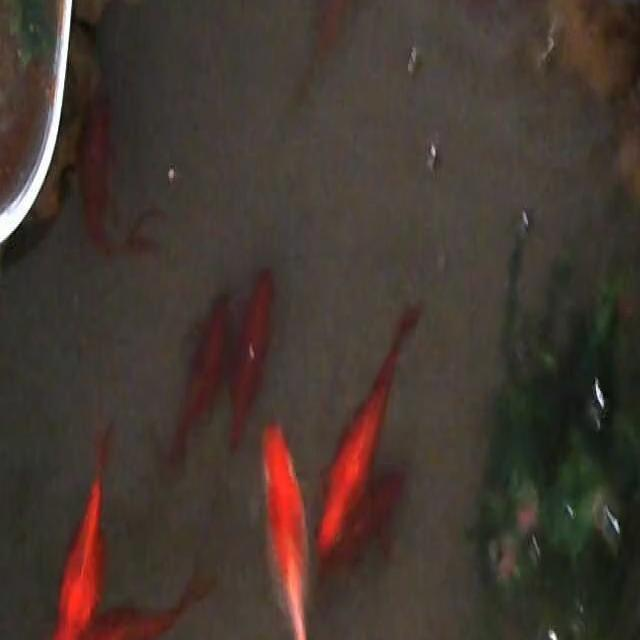fish: (314, 301, 424, 575), (259, 419, 337, 640), (76, 82, 163, 255), (51, 412, 113, 640), (163, 288, 236, 469), (224, 265, 277, 454), (289, 0, 352, 117), (89, 581, 208, 640)
